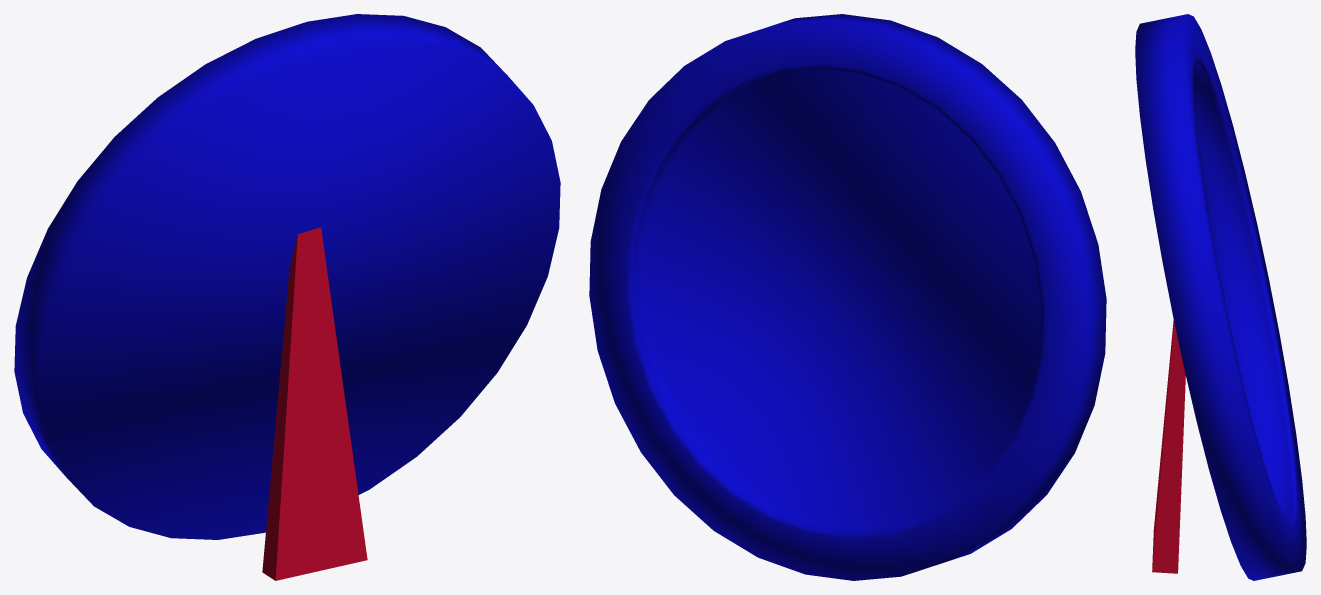
File: cuadro foto.fbx
3 views of the same model, side by side, from view 1: azimuth 30°, elevation 25°; view 2: azimuth 150°, elevation 25°; view 3: azimuth 270°, elevation 25° (orthographic). The views are drawn at different scales.
Visible parts, largest first — view 1: Cubo (×2); view 2: Cubo; view 3: Cubo (×2).
Part boxes in pixels (bbox=[...]): Cubo (×2): bbox=[14, 14, 560, 580]; Cubo: bbox=[589, 14, 1106, 580]; Cubo (×2): bbox=[1135, 14, 1306, 580].
Bounding box in the file's own units: 200 × 199 × 60.32.
